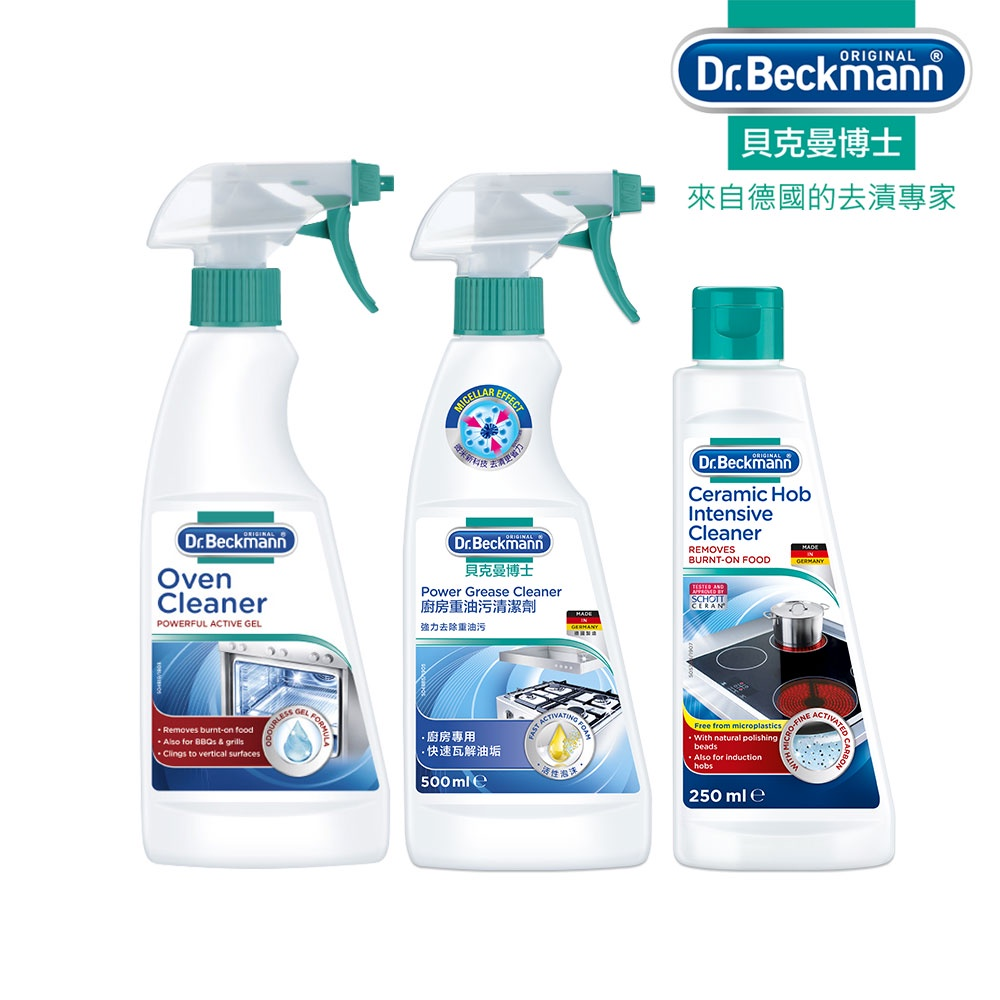cleaner: (116, 154, 396, 866), (401, 168, 662, 877), (660, 276, 918, 877)
